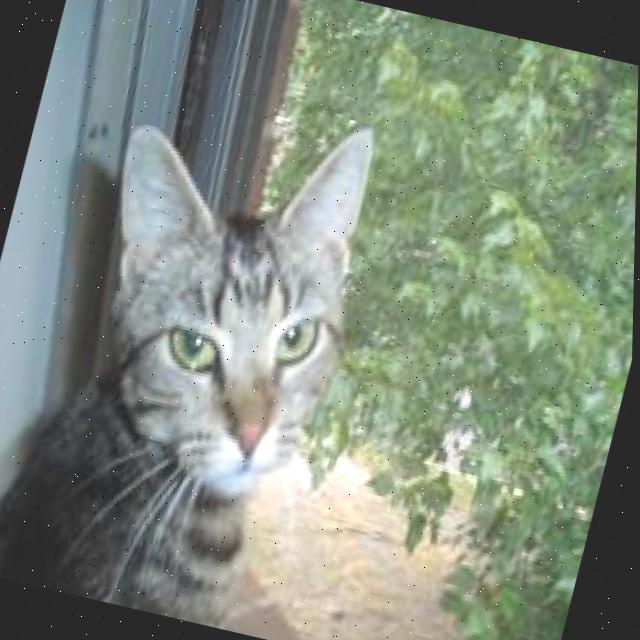Bengal: (0, 51, 408, 640)
